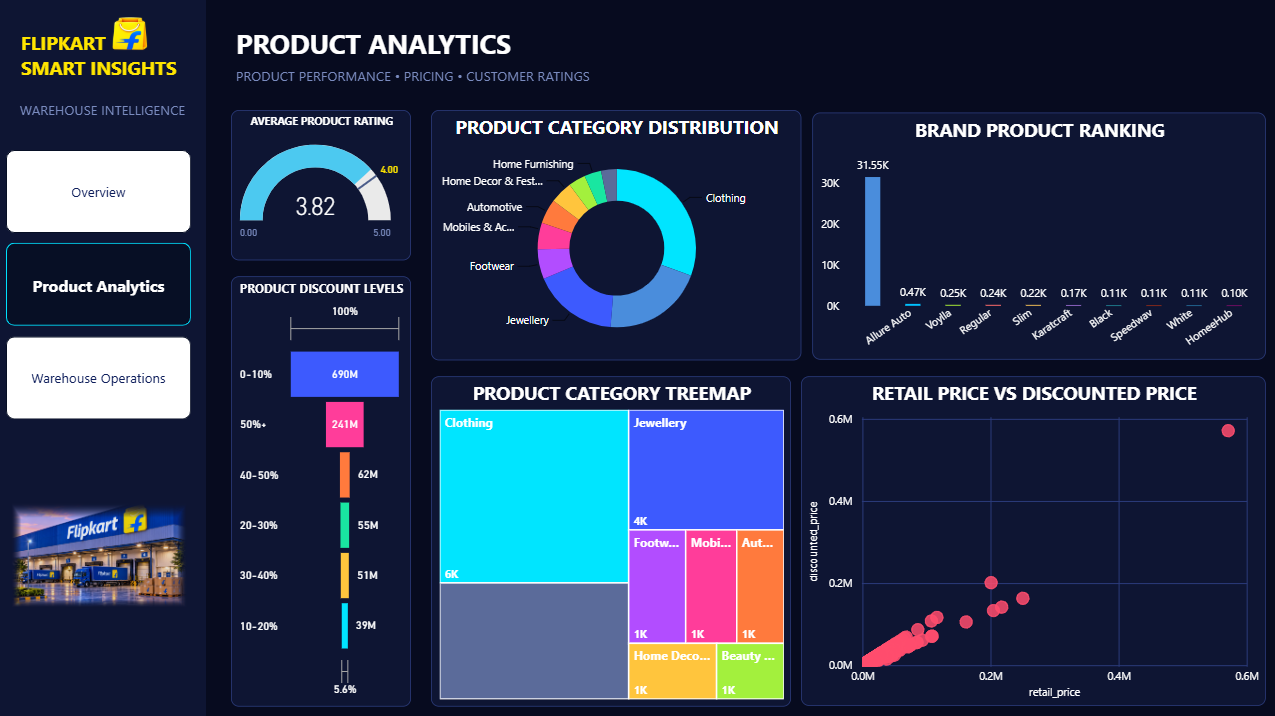

The page's visual inventory and layout, read from the dashboard file:
{"tool":"powerbi","page":{"name":"Product Analytics","canvas":[1280,720],"ordinal":1},"visuals":[{"type":"shape","box":[0,0,210,720],"z":0},{"type":"textbox","box":[20,25,175,65],"z":1000},{"type":"textbox","box":[235.3,20.5,337.8,48.3],"z":2000},{"type":"textbox","box":[19,95,176,36],"z":3000},{"type":"textbox","box":[235.3,61.5,799.9,33.8],"z":4000},{"type":"image","box":[107,10,53,47],"z":5000},{"type":"pageNavigator","box":[10,150,185,270],"z":6000},{"type":"gauge","title":"\tAVERAGE PRODUCT RATING","fields":{"Y":["Flipkart_Products.Average Product Rating"]},"box":[235,110,180,150],"z":7000},{"type":"donutChart","title":"PRODUCT CATEGORY DISTRIBUTION","fields":{"Category":["Flipkart_Products.Text Before Delimiter"],"Y":["Flipkart_Products.Total Products"]},"box":[435,110,370,250],"z":8000},{"type":"treemap","title":"PRODUCT CATEGORY TREEMAP","fields":{"Group":["Flipkart_Products.Text Before Delimiter"],"Values":["Flipkart_Products.Treemap Product Count"]},"box":[435,376.2,360,330],"z":9000},{"type":"scatterChart","title":"RETAIL PRICE VS DISCOUNTED PRICE","fields":{"Category":["Flipkart_Products.uniq_id"],"X":["Sum(Flipkart_Products.retail_price)"],"Y":["Sum(Flipkart_Products.discounted_price)"]},"box":[805.4,375.7,464.9,329.7],"z":10000},{"type":"ribbonChart","title":"BRAND PRODUCT RANKING","fields":{"Category":["Flipkart_Products.brand"],"Series":["Flipkart_Products.brand"],"Y":["CountNonNull(Flipkart_Products.uniq_id)"]},"box":[816.2,112.5,453.8,247.5],"z":11000},{"type":"funnel","title":"PRODUCT DISCOUNT LEVELS","fields":{"Category":["Flipkart_Products.Discount Range"],"Y":["Sum(Flipkart_Products.Discounted Product Count)"]},"box":[235,276.2,180,430],"z":12000},{"type":"image","box":[10,420,186.2,270],"z":13000}]}

Visuals, with their boxes on the page's 1280x720 design canvas (x1, y1, x2, y2). These are canvas units, not pixel positions in the 1275x716 screenshot, which may show the page scaled, cropped or inside an application window:
shape: <region>0, 0, 210, 720</region>
textbox: <region>20, 25, 195, 90</region>
textbox: <region>235, 20, 573, 69</region>
textbox: <region>19, 95, 195, 131</region>
textbox: <region>235, 62, 1035, 95</region>
image: <region>107, 10, 160, 57</region>
pageNavigator: <region>10, 150, 195, 420</region>
"	AVERAGE PRODUCT RATING" gauge: <region>235, 110, 415, 260</region>
"PRODUCT CATEGORY DISTRIBUTION" donutChart: <region>435, 110, 805, 360</region>
"PRODUCT CATEGORY TREEMAP" treemap: <region>435, 376, 795, 706</region>
"RETAIL PRICE VS DISCOUNTED PRICE" scatterChart: <region>805, 376, 1270, 705</region>
"BRAND PRODUCT RANKING" ribbonChart: <region>816, 112, 1270, 360</region>
"PRODUCT DISCOUNT LEVELS" funnel: <region>235, 276, 415, 706</region>
image: <region>10, 420, 196, 690</region>
